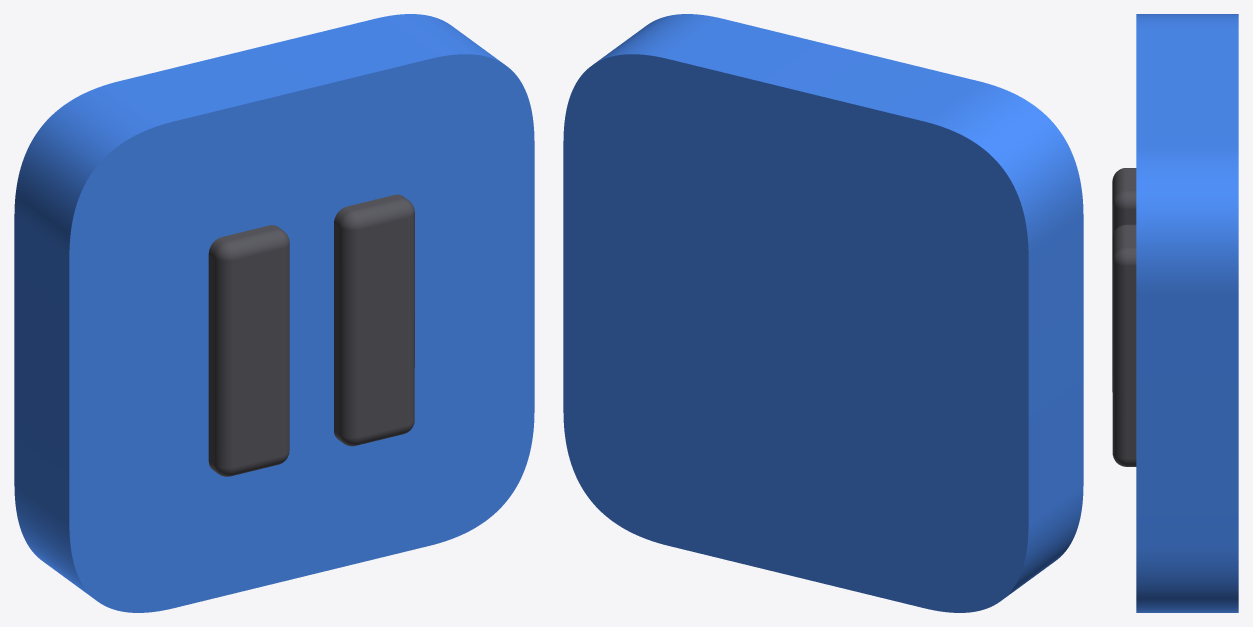
Rendered from pauseButton.glb.
3 renders of one model, left to right at view 1: azimuth 30°, elevation 25°; view 2: azimuth 150°, elevation 25°; view 3: azimuth 270°, elevation 25°, orthographic. The views are drawn at different scales.
Visible parts, largest first — view 1: icon-bg, Cube 2, Cube; view 2: icon-bg; view 3: icon-bg, Cube, Cube 2.
Boxes of the visible parts, box(x1,y1,x2,y2) form: icon-bg: box(14, 14, 534, 612); Cube 2: box(208, 225, 289, 476); Cube: box(334, 194, 414, 446); icon-bg: box(563, 14, 1083, 612); icon-bg: box(1136, 14, 1238, 612); Cube: box(1112, 224, 1136, 466); Cube 2: box(1112, 168, 1136, 237).
Size of the model in its own units: 2.84 by 2.84 by 0.7186.
